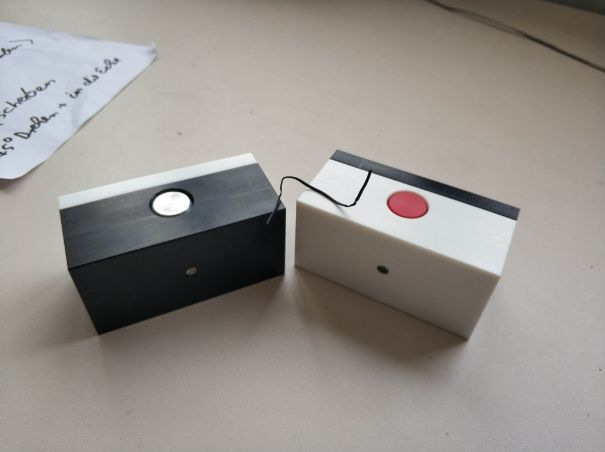black+white+red: (295, 145, 523, 343)
white+black+silver: (54, 150, 289, 339)
